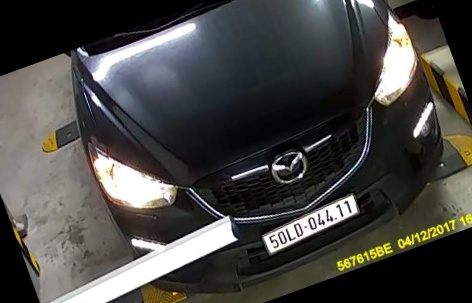plate: (255, 190, 368, 251)
